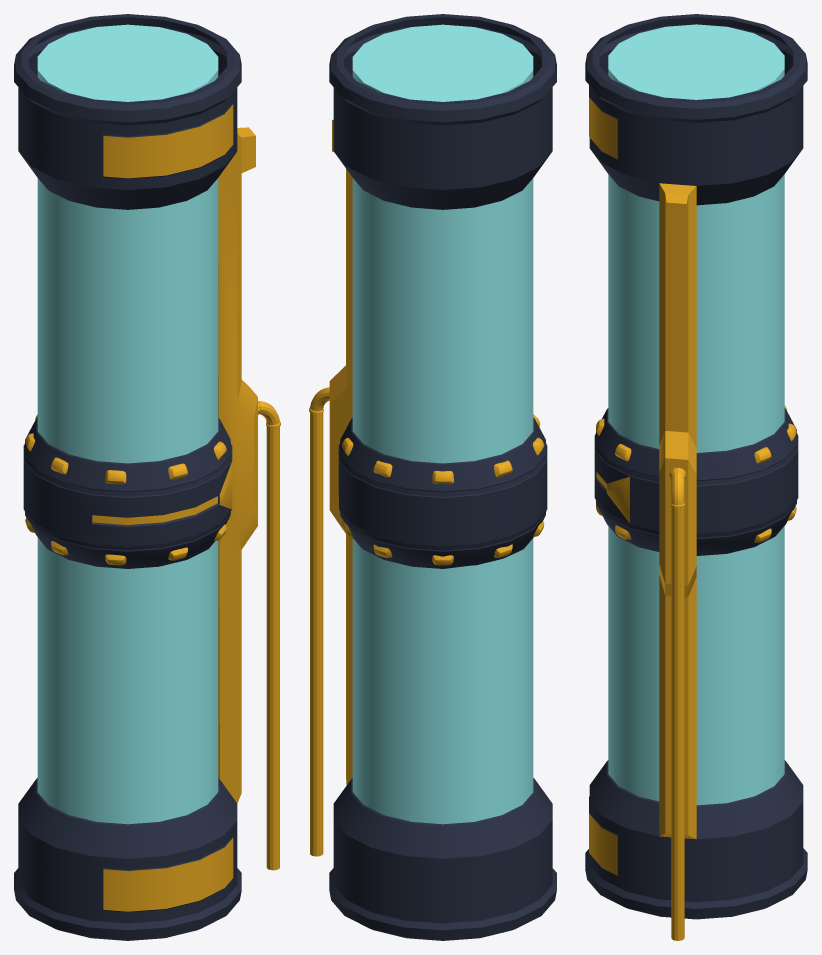
The model's file is WaterDevice.fbx.
The picture shows the model from 3 angles, left to right: view 1: azimuth 30°, elevation 25°; view 2: azimuth 150°, elevation 25°; view 3: azimuth 270°, elevation 25°; orthographic projection. The views are drawn at different scales.
Parts seen in each view (by area): view 1: WaterPillar, body, Rdetail, DisTB, Pipe, BodyDetail, DIsMiddle; view 2: WaterPillar, body, Pipe, Rdetail, BodyDetail; view 3: WaterPillar, body, Rdetail, Pipe, DisTB, BodyDetail, Object001.
Part boxes in pixels (x1,y1,x2,y2): WaterPillar: (37,24,218,824); body: (14,14,241,940); Rdetail: (218,127,257,803); DisTB: (103,104,233,911); Pipe: (258,401,279,870); BodyDetail: (25,414,226,565); DIsMiddle: (92,496,217,524); WaterPillar: (352,24,533,824); body: (329,14,556,940); Pipe: (310,387,329,856); Rdetail: (329,119,352,784); BodyDetail: (342,414,544,565); WaterPillar: (608,24,784,805); body: (585,14,807,919); Rdetail: (659,183,696,839); Pipe: (671,472,684,940); DisTB: (589,97,617,875); BodyDetail: (596,405,796,542); Object001: (607,476,629,523).
Bounding box in the file's own units: 1048 × 3450 × 852.
